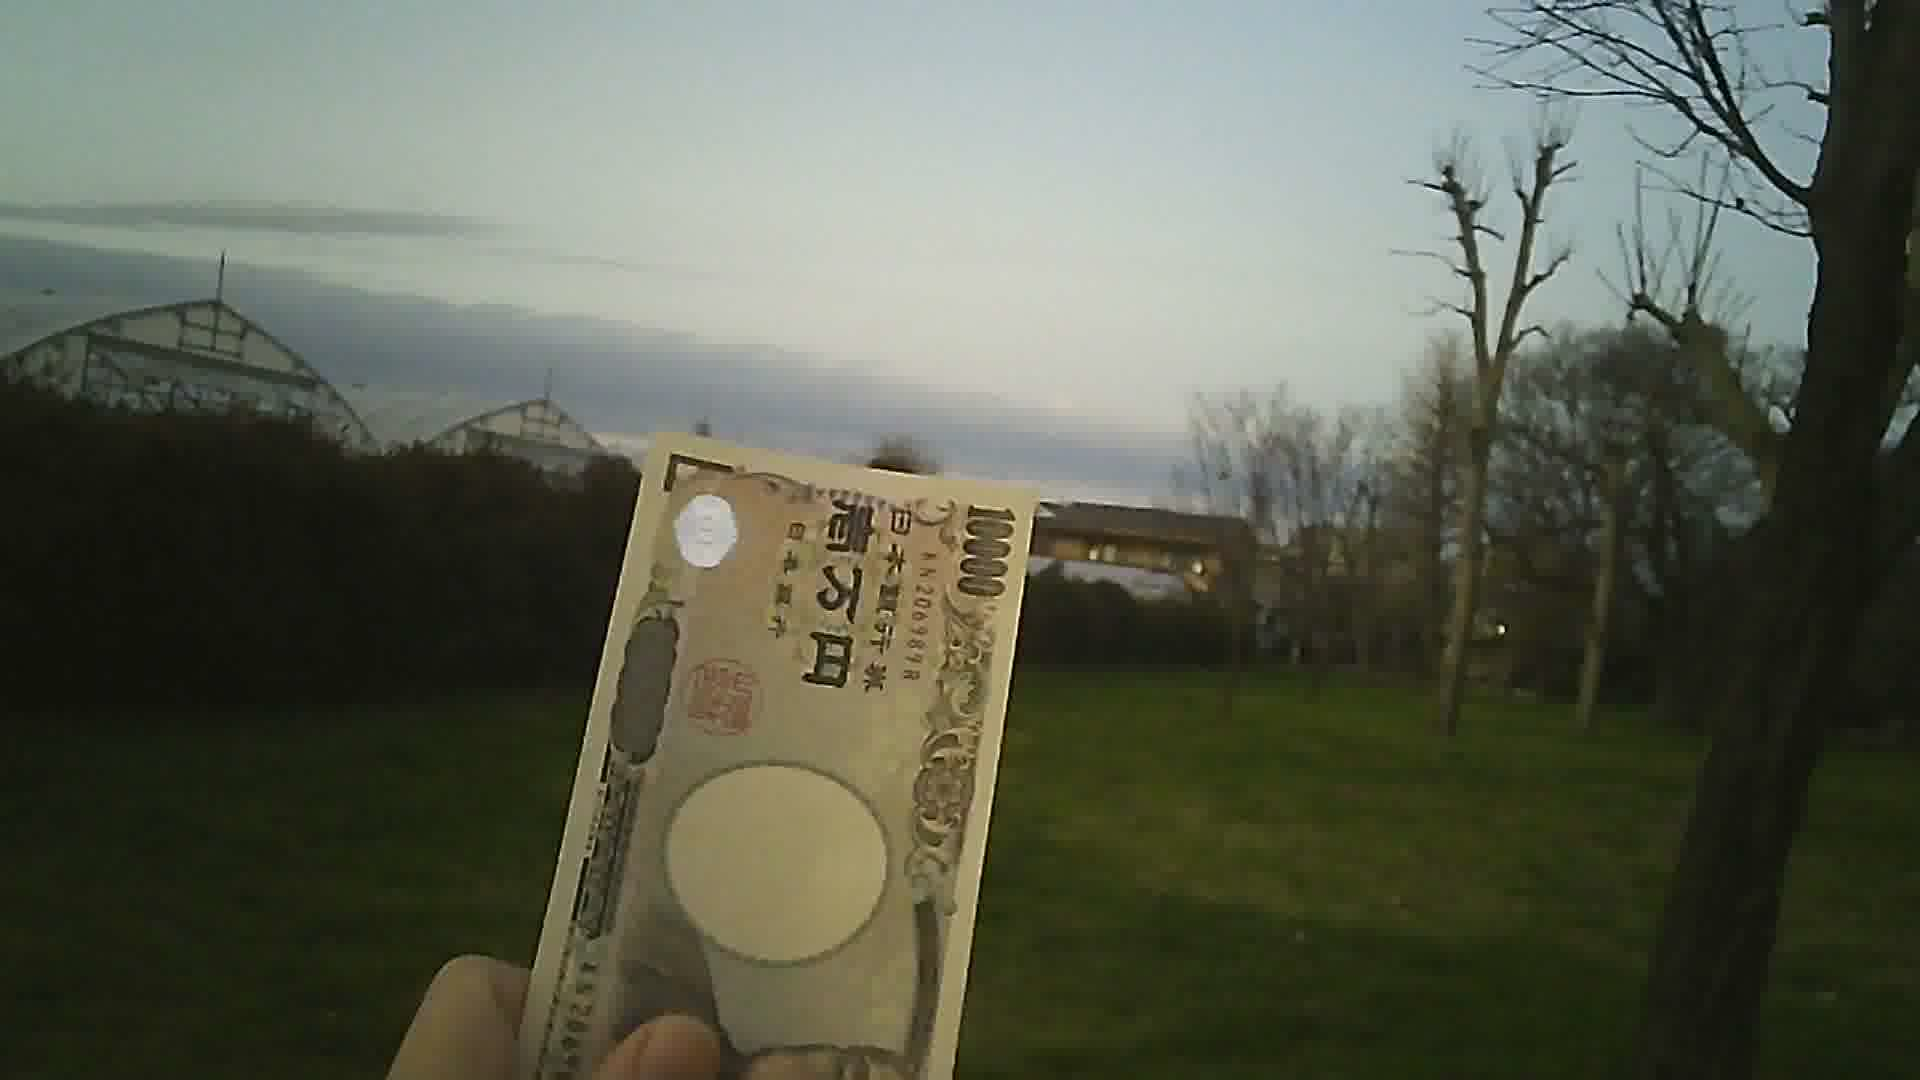10,000 Yen: (535, 427, 1046, 1079)
